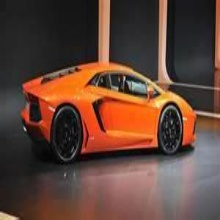no damage: (19, 60, 198, 164)
